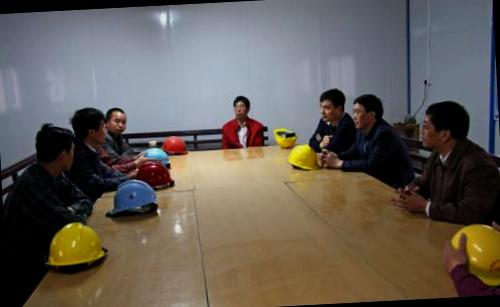no_helmet: (417, 94, 473, 153), (33, 121, 79, 177), (70, 102, 108, 148), (347, 90, 385, 130), (314, 84, 348, 122), (101, 104, 130, 136), (229, 93, 250, 118)
